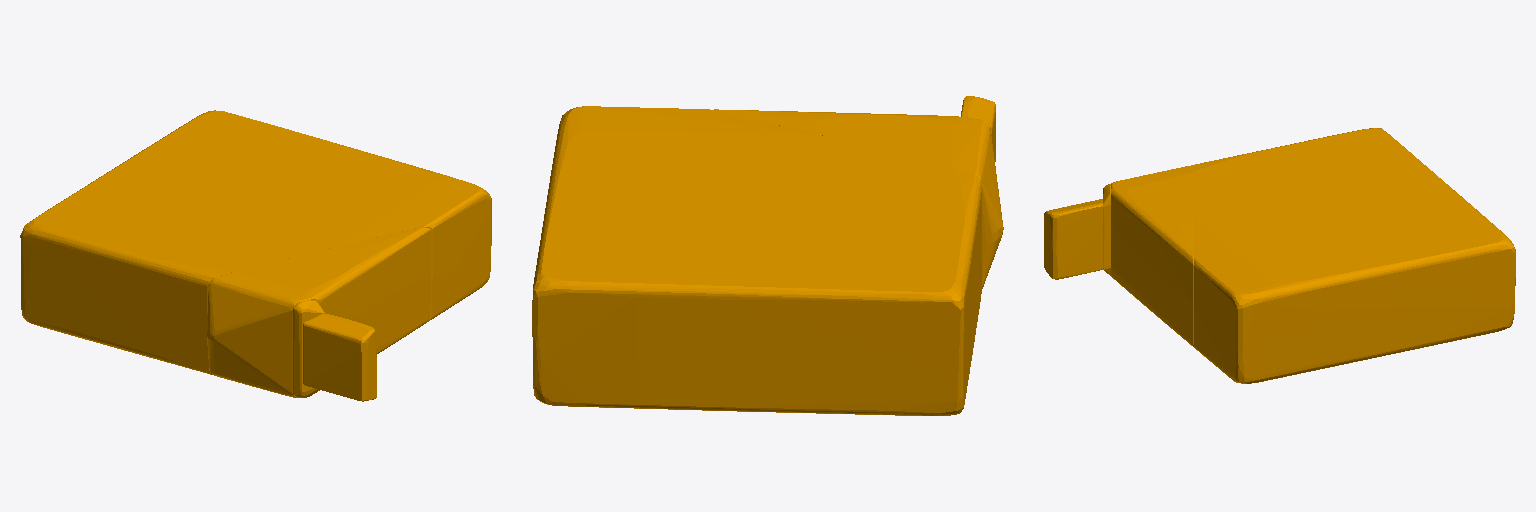
The robot description file, URDF, robot "071_nine_hole_peg_test":
<?xml version="1.0" encoding="UTF-8"?>
<robot name="071_nine_hole_peg_test">
	<link name="base">
		<collision>
			<geometry>
				<mesh filename="..\vhacd\071_nine_hole_peg_test_vhacd.obj" scale="1.0 1.0 1.0"/>
			</geometry>
			<origin xyz="0 0 0"/>
			<contact_coefficients mu="0.24" />
		</collision>
		<visual>
			<geometry>
				<mesh filename="..\vhacd\071_nine_hole_peg_test_vhacd.obj" scale="1.0 1.0 1.0"/>
			</geometry>
			<origin xyz="0 0 0"/>
		</visual>
		<inertial>
			<mass value="0"/>
			<inertia ixx="0.0" ixy="-0.0" ixz="0.0" iyy="0.0" iyz="-0.0" izz="0.0" />
			<origin xyz="-0.00018853926388677936 0.024373721310524885 0.019952866037659535"/>
		</inertial>
	</link>
</robot>

--- Facts derived from the render (not from the file) ---
3 views of the same robot in one strip: view 1: azimuth 30°, elevation 25°; view 2: azimuth 150°, elevation 25°; view 3: azimuth 270°, elevation 25° (orthographic).
Robot: 071_nine_hole_peg_test — 1 links, 0 joints (none); root link base; default pose: all joints at 0.
Links seen in each view (by area): view 1: base; view 2: base; view 3: base.
Link boxes in pixels (x1,y1,x2,y2): base: (20,110,491,401); base: (532,96,1003,415); base: (1044,128,1515,383).
Bounding box of the posed robot: 0.1678 × 0.1915 × 0.041 m (x, y, z).
Meshes: 1 distinct files referenced, 1 mesh visuals loaded (1 OBJ).